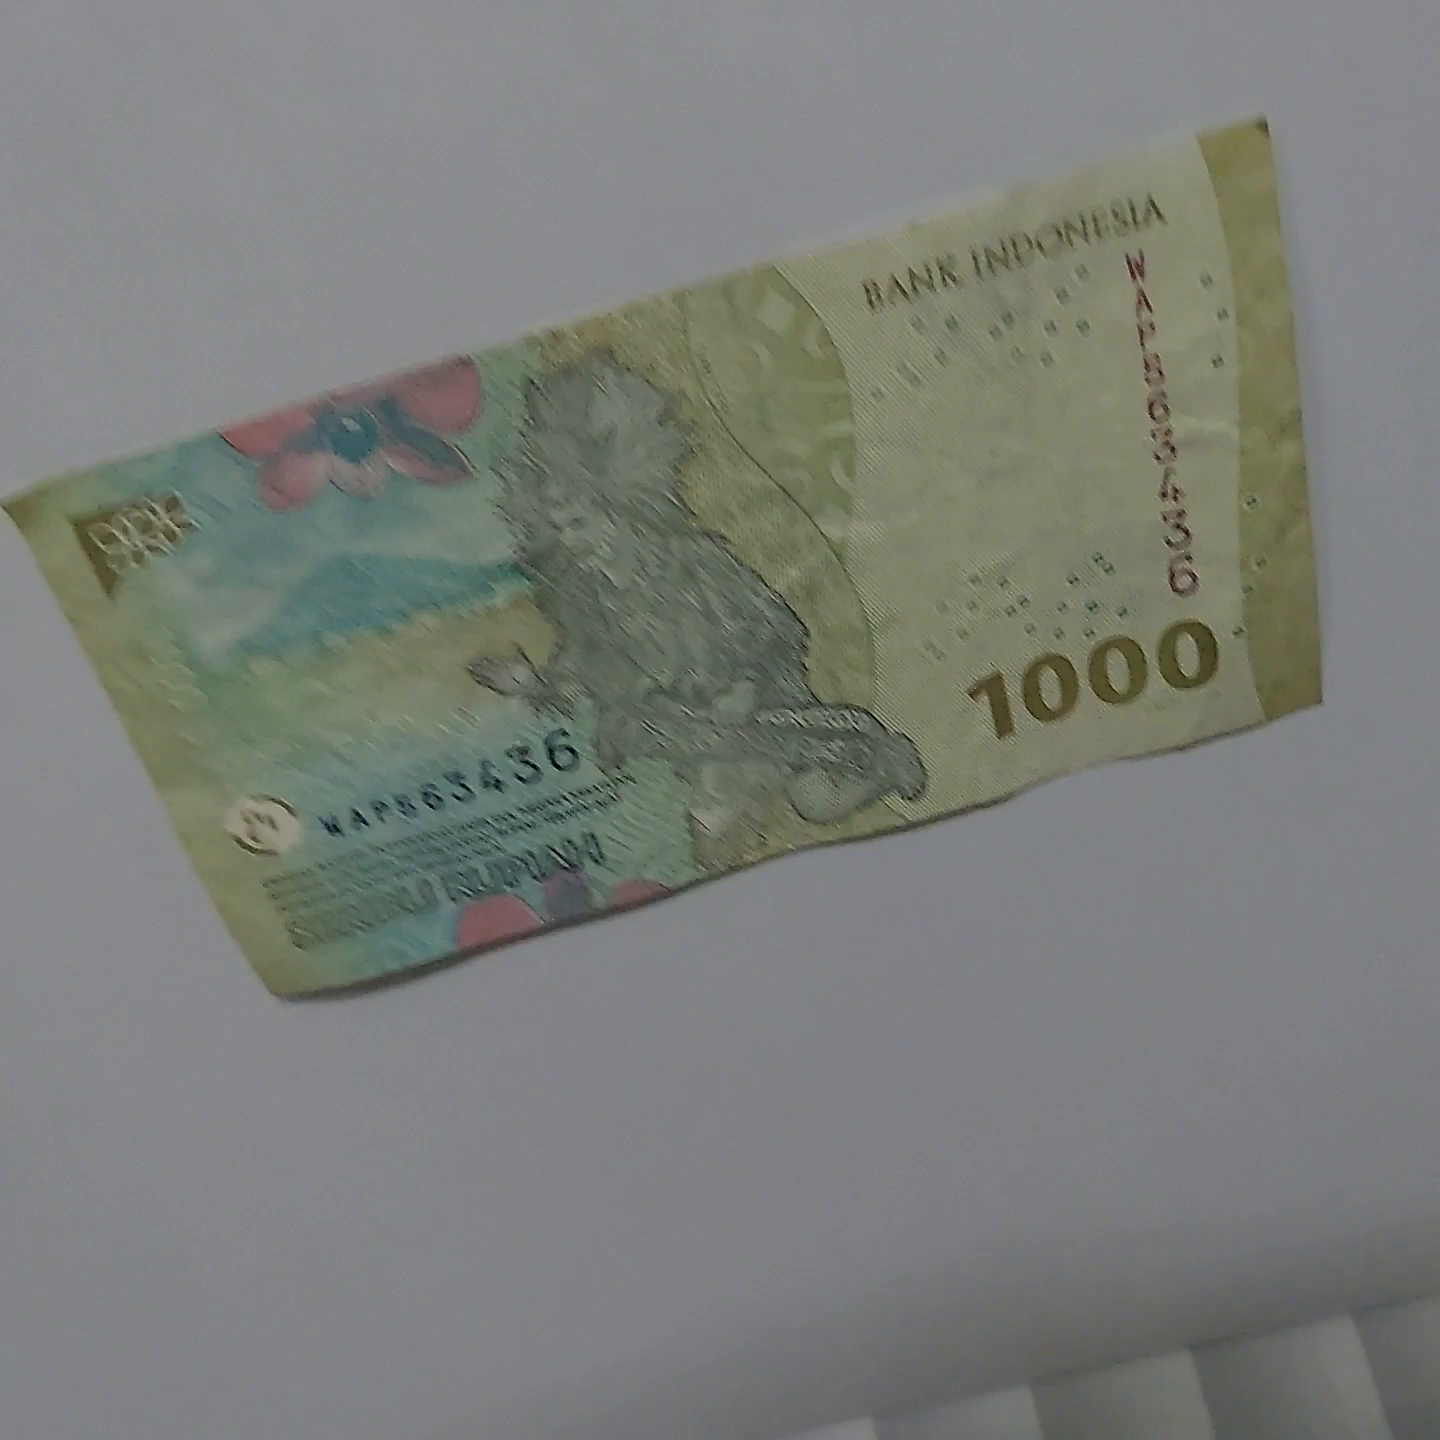1k: (0, 484, 1305, 1085)
